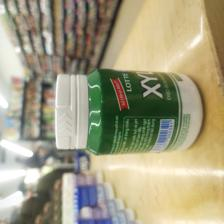Xylitol_green: (52, 66, 207, 158)
